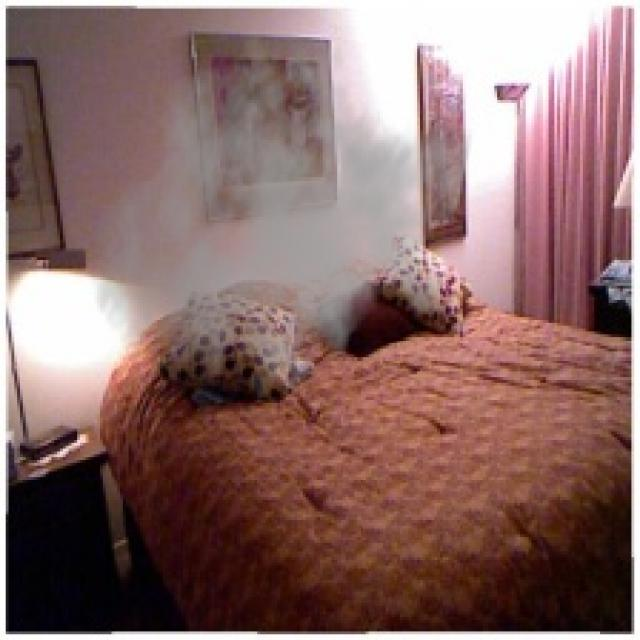smoke: (89, 26, 474, 420)
